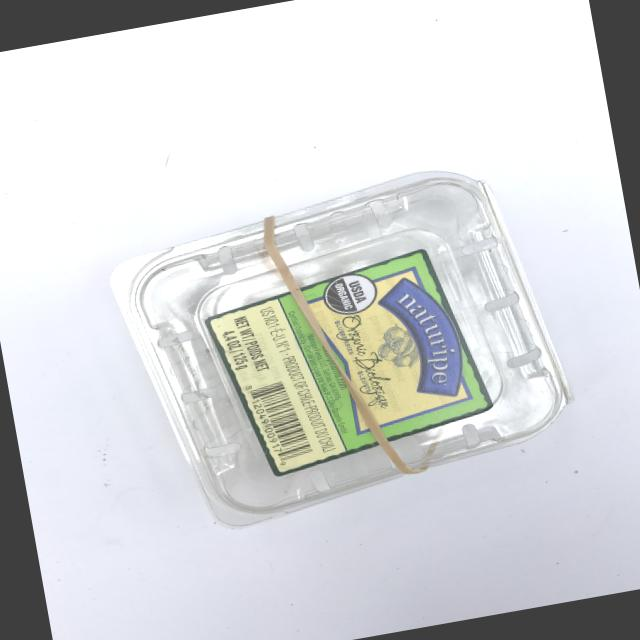Plastic: (76, 136, 590, 553)
